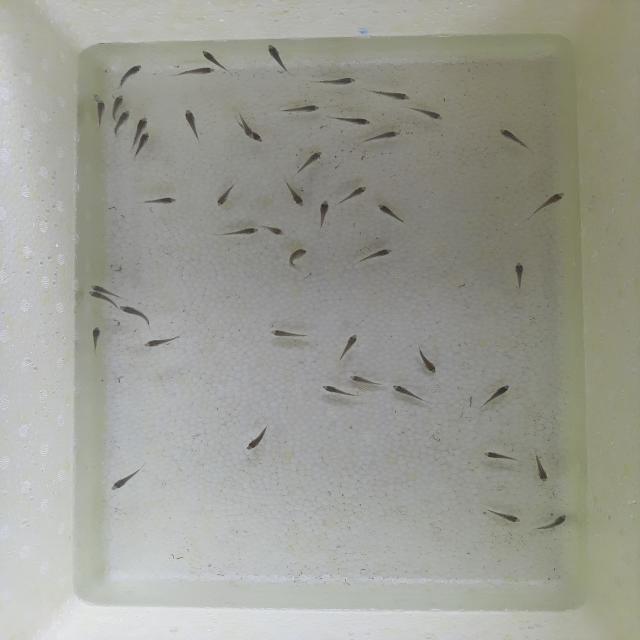fingerling: (530, 452, 552, 488), (284, 243, 313, 270), (416, 349, 446, 375), (210, 186, 240, 212), (264, 327, 308, 343), (114, 306, 158, 322), (108, 469, 135, 495), (177, 108, 204, 134), (372, 205, 412, 222), (142, 334, 184, 350), (534, 192, 566, 213), (390, 386, 431, 402), (242, 432, 274, 452), (473, 449, 518, 463), (543, 508, 569, 532), (283, 184, 307, 210), (488, 508, 522, 526), (266, 44, 292, 67), (484, 384, 512, 405), (221, 226, 257, 242), (301, 148, 325, 172), (356, 248, 390, 264), (496, 129, 526, 147), (374, 88, 412, 102), (318, 382, 351, 398), (514, 257, 530, 289), (337, 332, 358, 356), (318, 76, 360, 88), (316, 202, 335, 228), (86, 288, 113, 306), (346, 182, 370, 201), (87, 280, 119, 294), (88, 322, 105, 348), (347, 371, 374, 386), (364, 132, 404, 142), (340, 115, 372, 127), (137, 132, 153, 156), (177, 68, 215, 78), (262, 224, 288, 238), (120, 64, 142, 80), (238, 116, 253, 138), (118, 108, 133, 130), (283, 105, 323, 113), (414, 111, 442, 121), (136, 114, 150, 132), (94, 102, 108, 120), (199, 51, 221, 62), (110, 98, 124, 115), (152, 197, 178, 206)
